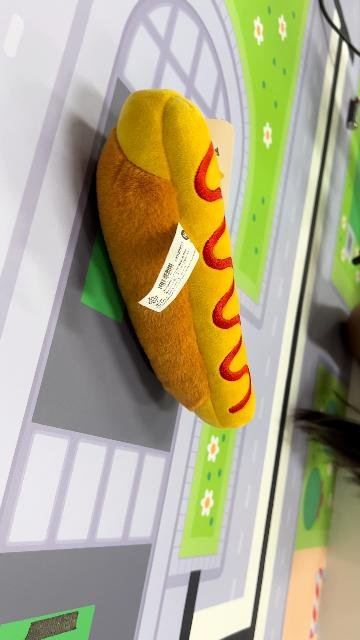hotdog: (94, 88, 258, 430)
